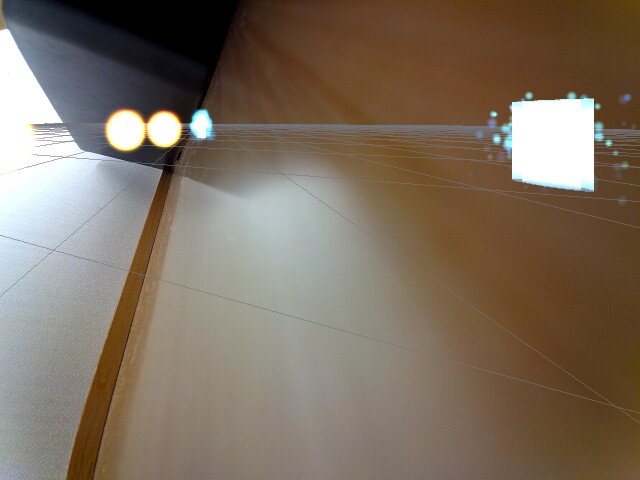firebig: (105, 102, 146, 154)
